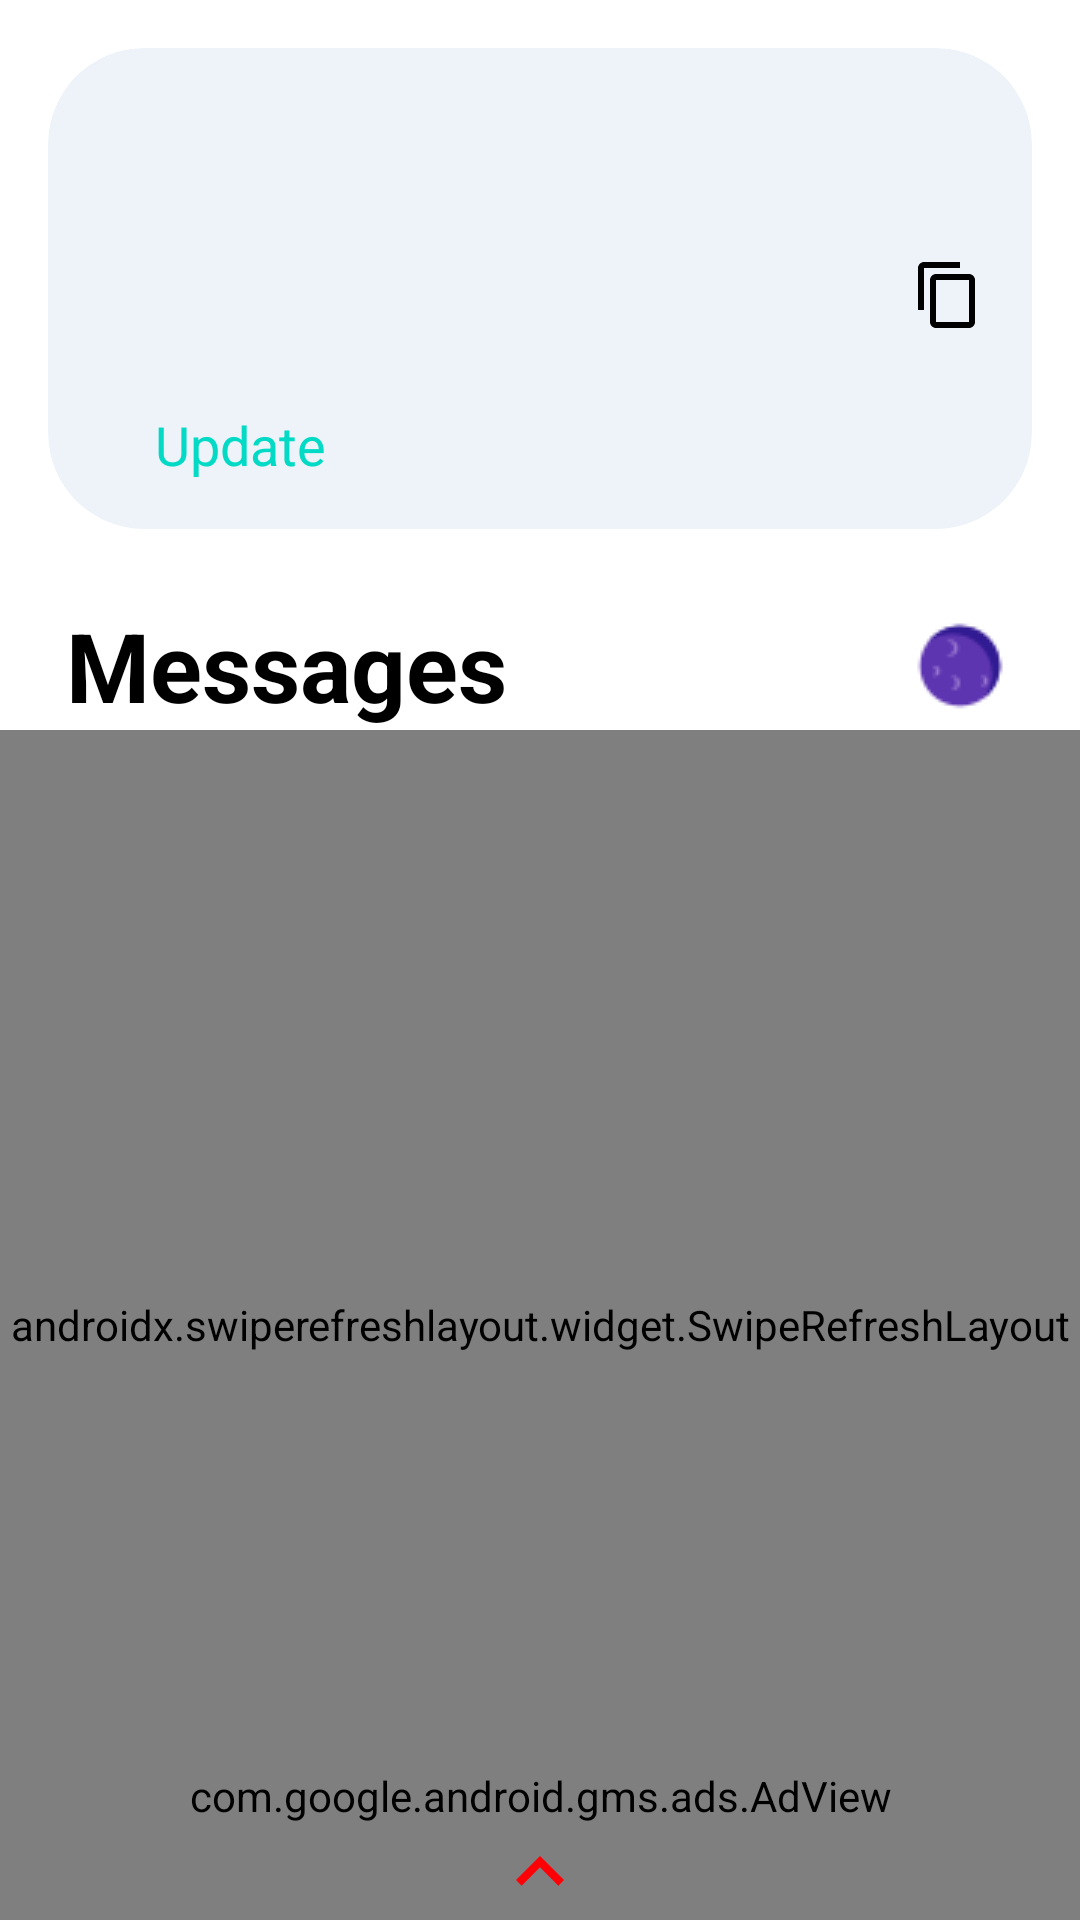

Where icons sit on this 1080 × 1920 app screen, as [x1=x1, y1=y1, x2=x2, y2=y2]:
mode: [x1=918, y1=623, x2=1003, y2=708]
